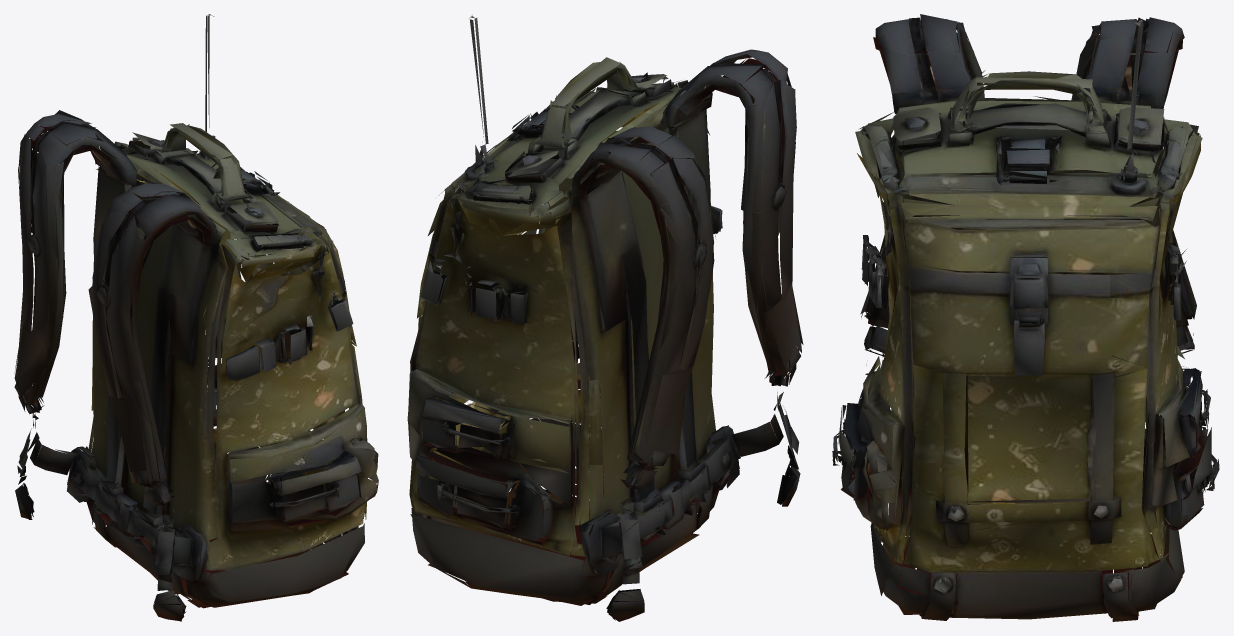
File: mer_radio_backpack_LOD2.glb
The picture shows the model from 3 angles, left to right: view 1: azimuth 30°, elevation 25°; view 2: azimuth 150°, elevation 25°; view 3: azimuth 270°, elevation 25°; orthographic projection. The views are drawn at different scales.
Parts seen in each view (by area): view 1: tripo_node_254d8034-fd76-4caa-8b75-29ac752a5a79; view 2: tripo_node_254d8034-fd76-4caa-8b75-29ac752a5a79; view 3: tripo_node_254d8034-fd76-4caa-8b75-29ac752a5a79.
Part boxes in pixels (x1,y1,x2,y2): tripo_node_254d8034-fd76-4caa-8b75-29ac752a5a79: (14, 14, 378, 621); tripo_node_254d8034-fd76-4caa-8b75-29ac752a5a79: (407, 15, 803, 621); tripo_node_254d8034-fd76-4caa-8b75-29ac752a5a79: (832, 14, 1219, 621).
Size of the model in its own units: 0.5432 by 0.999 by 0.5996.
Materials: 1 (1 with a texture image).
